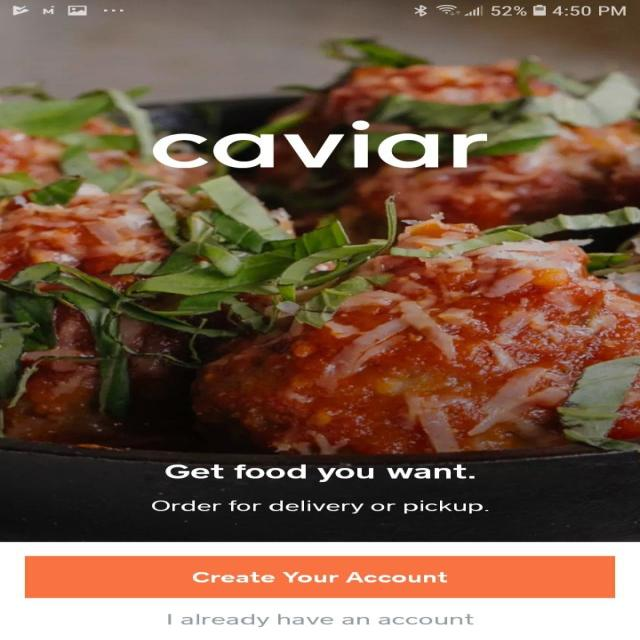BackgroundImage: (0, 18, 639, 541)
Text: (152, 120, 488, 169), (164, 463, 474, 482), (151, 499, 489, 514), (167, 613, 474, 627)
TextButton: (24, 555, 614, 597)
